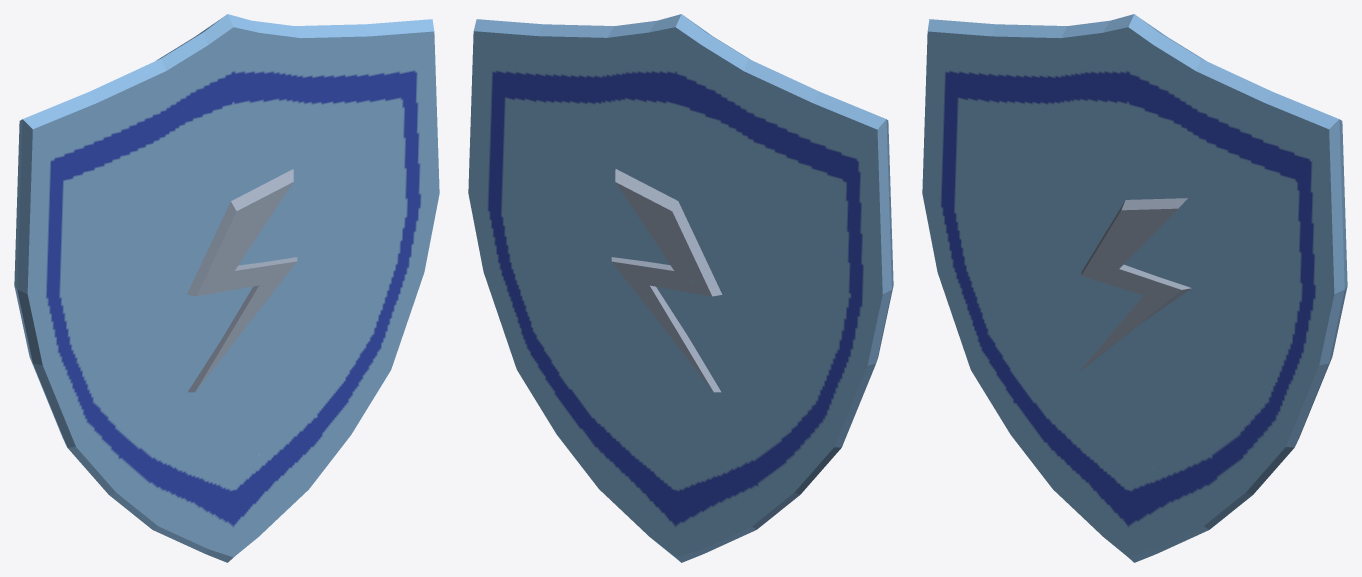
The model's file is fbBoosterShield.fbx.
The picture shows the model from 3 angles, left to right: view 1: azimuth 30°, elevation 25°; view 2: azimuth 150°, elevation 25°; view 3: azimuth 330°, elevation 25°; orthographic projection.
Visible parts, largest first — view 1: Plane; view 2: Plane; view 3: Plane.
Boxes of the visible parts, x1=… form: Plane: x1=14, y1=14, x2=439, y2=562; Plane: x1=468, y1=14, x2=893, y2=562; Plane: x1=922, y1=14, x2=1347, y2=562.
Size of the model in its own units: 91.62 by 114 by 8.44.
